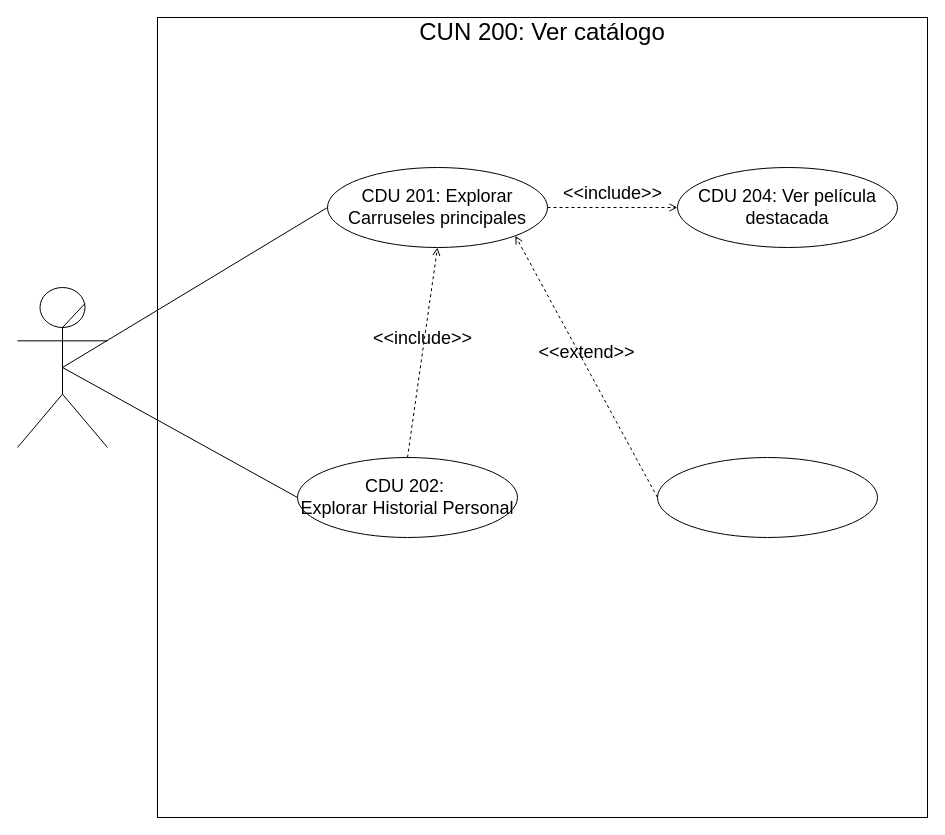
Image size: 945x835. Some labels were removed from this diagram. The centre of each missing label's shape, as x and y in pixels:
CDU 203: Filtrar por Categorías: the point at 767,497
Usuario: the point at 62,367
